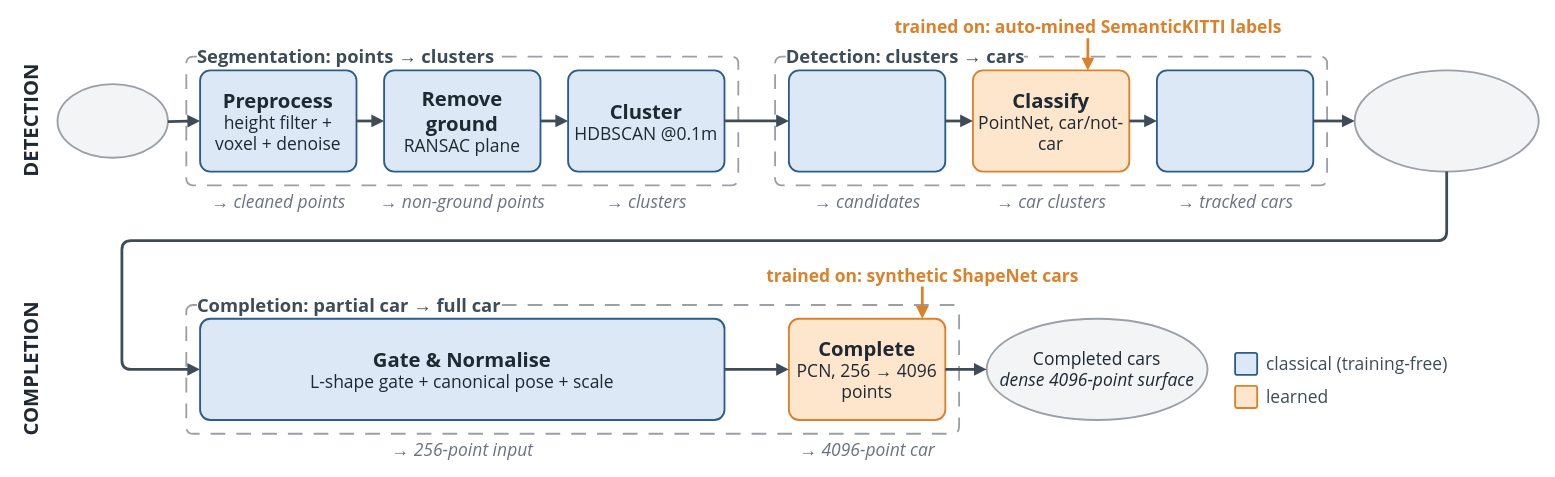
This 1555x477 diagram has some shape labels left out. Here are the shapes that lost their labels. From the top down, the centre of each, then its label:
the point at 112,120: Raw LiDAR scan
the point at 867,120: Geometric filter box size gates
the point at 1235,120: Track centroid tracker + track vote
the point at 1446,120: Car detection track IDs
